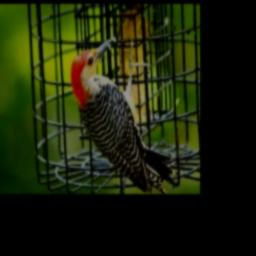Woodpecker: (70, 36, 173, 193)
